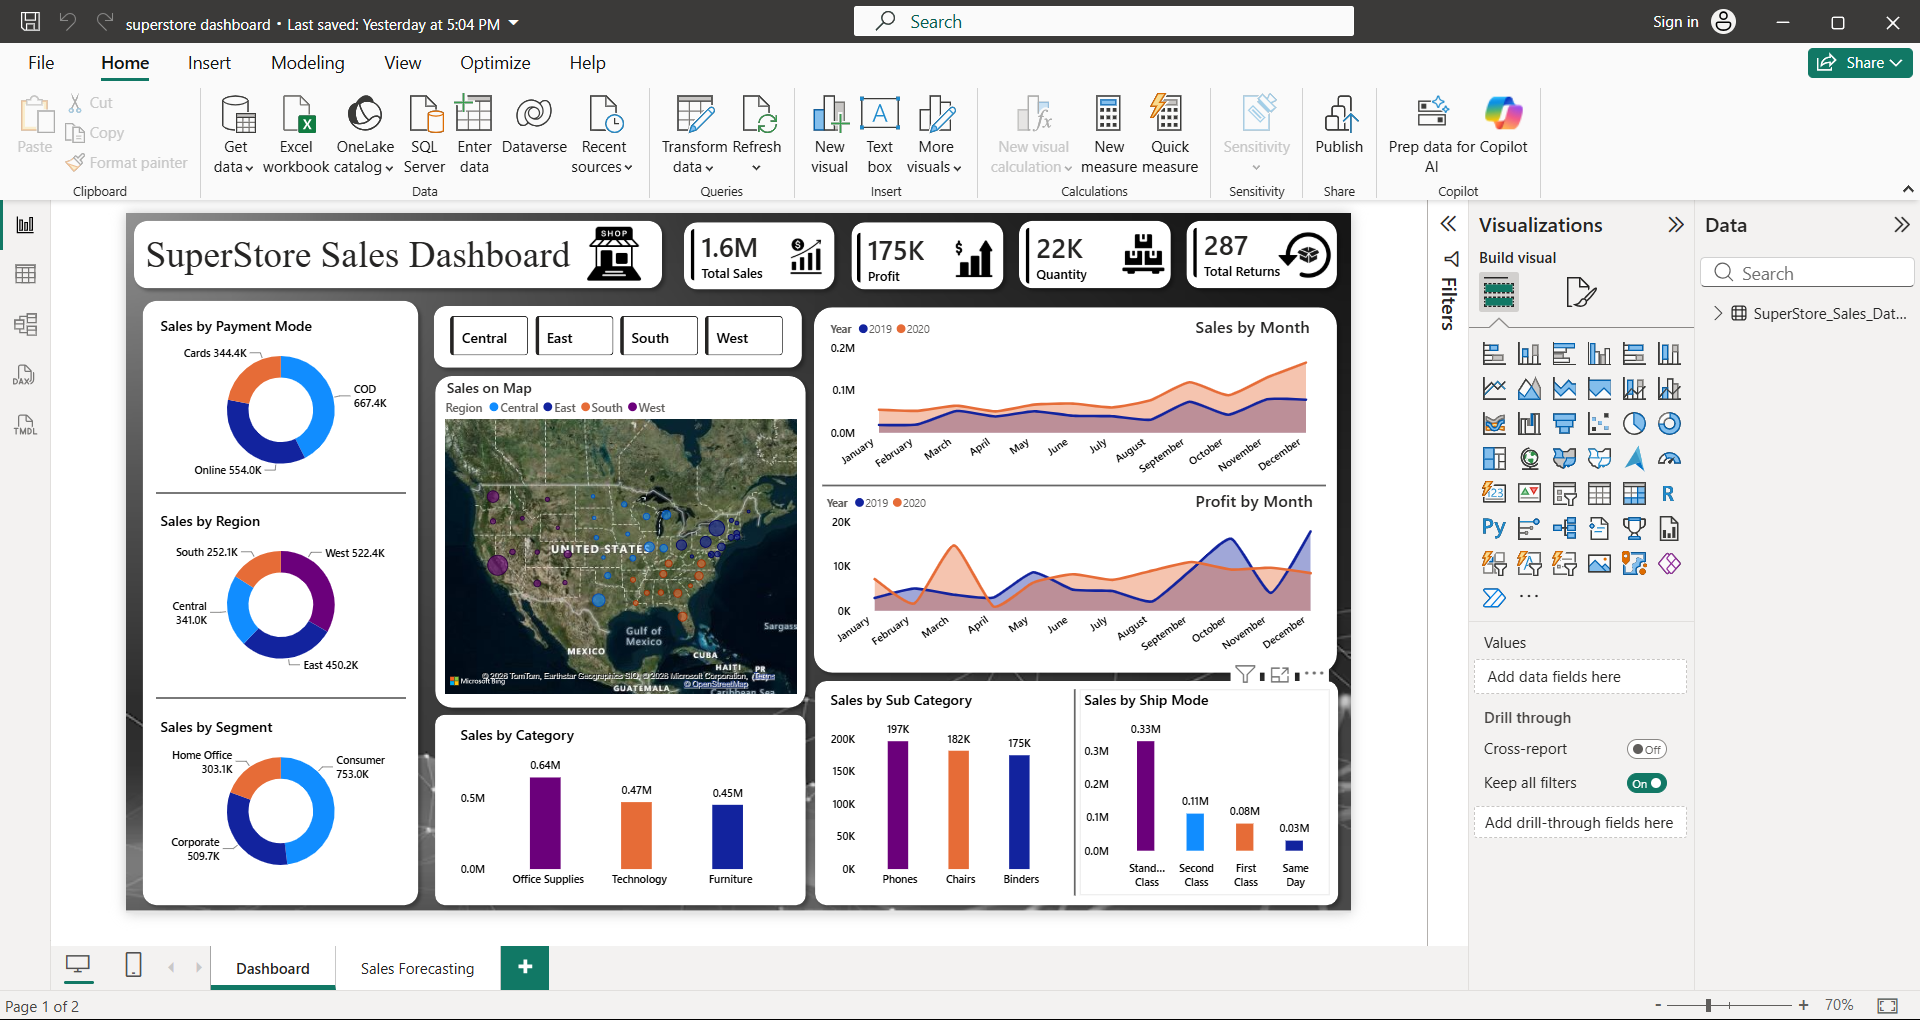

The dashboard page shown, as its layout file describes it:
{"tool":"powerbi","page":{"name":"Dashboard","canvas":[1400,800],"ordinal":0},"visuals":[{"type":"shape","box":[0,0,621.7,95],"z":0},{"type":"textbox","box":[17.1,17.1,542.9,61.4],"z":1000},{"type":"image","box":[501.4,15.7,112.9,61.4],"z":2000},{"type":"shape","box":[344.3,177.1,441.4,397.1],"z":3000},{"type":"map","title":"Sales on Map","fields":{"Size":["Sum(SuperStore_Sales_Dataset.Sales)"],"Series":["SuperStore_Sales_Dataset.Region"],"Category":["SuperStore_Sales_Dataset.State"]},"box":[360,201.4,411.4,352.9],"z":4000},{"type":"shape","box":[628,1.3,190,95],"z":5000},{"type":"cardVisual","fields":{"Data":["Sum(SuperStore_Sales_Dataset.Sales)"]},"box":[628,1.3,163.3,93.3],"z":6000},{"type":"shape","box":[820,1.7,191.7,95],"z":7000},{"type":"shape","box":[1011.7,0,191.7,95],"z":8000},{"type":"shape","box":[1203.3,0,190,95],"z":9000},{"type":"image","box":[743.3,28.3,68.3,41.7],"z":10000},{"type":"cardVisual","fields":{"Data":["Sum(SuperStore_Sales_Dataset.Profit)"]},"box":[818.3,5,171.7,91.7],"z":11000},{"type":"image","box":[930,30,78.3,45],"z":12000},{"type":"cardVisual","fields":{"Data":["Sum(SuperStore_Sales_Dataset.Quantity)"]},"box":[1011.7,0,203.3,98.3],"z":13000},{"type":"image","box":[1116.7,23.3,91.7,48.3],"z":14000},{"type":"cardVisual","fields":{"Data":["SuperStore_Sales_Dataset.Total Returns"]},"box":[1203.3,0,178.3,91.7],"z":15000},{"type":"image","box":[1298.3,13.3,96.7,70],"z":16000},{"type":"textbox","box":[362,182.8,161.7,40],"z":17000},{"type":"shape","box":[343.3,97.1,438.6,88.6],"z":18000},{"type":"advancedSlicerVisual","fields":{"Values":["SuperStore_Sales_Dataset.Region"]},"box":[366.2,112.9,392.9,55.7],"z":19000},{"type":"shape","box":[10,91.4,332.9,708.6],"z":20000},{"type":"donutChart","title":"Sales by Payment Mode","fields":{"Category":["SuperStore_Sales_Dataset.Payment Mode"],"Y":["Sum(SuperStore_Sales_Dataset.Sales)"]},"box":[34.3,117.1,285.7,194.3],"z":21000},{"type":"donutChart","title":"Sales by Region","fields":{"Y":["Sum(SuperStore_Sales_Dataset.Sales)"],"Category":["SuperStore_Sales_Dataset.Region"]},"box":[34.3,340,285.7,194.3],"z":22000},{"type":"donutChart","title":"Sales by Segment","fields":{"Y":["Sum(SuperStore_Sales_Dataset.Sales)"],"Category":["SuperStore_Sales_Dataset.Segment"]},"box":[34.3,575.7,285.7,194.3],"z":23000},{"type":"shape","box":[34.3,300,285.7,40],"z":24000},{"type":"shape","box":[34.3,534.3,285.7,40],"z":25000},{"type":"shape","box":[344.3,564.3,441.4,235.7],"z":26000},{"type":"shape","box":[777.1,98.6,615.7,435.7],"z":27000},{"type":"areaChart","title":"Sales by Month and Year","fields":{"Category":["SuperStore_Sales_Dataset.Order Date.Variation.Date Hierarchy.Month"],"Series":["SuperStore_Sales_Dataset.Order Date.Variation.Date Hierarchy.Year"],"Y":["Sum(SuperStore_Sales_Dataset.Profit)"]},"box":[795.7,311.4,581.4,204.3],"z":28000},{"type":"clusteredColumnChart","title":"Sales by Category","fields":{"Y":["Sum(SuperStore_Sales_Dataset.Sales)"],"Category":["SuperStore_Sales_Dataset.Category"]},"box":[377.1,584.3,381.4,195.7],"z":29000},{"type":"areaChart","title":"Sales by Month and Year","fields":{"Y":["Sum(SuperStore_Sales_Dataset.Sales)"],"Category":["SuperStore_Sales_Dataset.Order Date.Variation.Date Hierarchy.Month"],"Series":["SuperStore_Sales_Dataset.Order Date.Variation.Date Hierarchy.Year"]},"box":[800,112.9,571.4,198.6],"z":30000},{"type":"shape","box":[795.7,291.4,575.7,40],"z":31000},{"type":"textbox","box":[1217.1,112.9,182.9,41.4],"z":32000},{"type":"textbox","box":[1217.1,311.4,182.9,41.4],"z":33000},{"type":"shape","box":[778.6,525.7,615.7,274.3],"z":34000},{"type":"clusteredColumnChart","title":"Sales by Sub Category","fields":{"Y":["Sum(SuperStore_Sales_Dataset.Sales)"],"Category":["SuperStore_Sales_Dataset.Sub-Category"]},"box":[800,544.3,270,235.7],"z":35000},{"type":"shape","box":[1065.7,544.3,37.1,235.7],"z":36000},{"type":"clusteredColumnChart","title":"Sales by Ship Mode","fields":{"Y":["Sum(SuperStore_Sales_Dataset.Sales)"],"Category":["SuperStore_Sales_Dataset.Ship Mode"]},"box":[1090,544.3,285.7,235.7],"z":37000}]}

Visuals, with their boxes on the page's 1400x800 design canvas (x1, y1, x2, y2). These are canvas units, not pixel positions in the 1920x1020 screenshot, which may show the page scaled, cropped or inside an application window:
shape: [left=0, top=0, right=622, bottom=95]
textbox: [left=17, top=17, right=560, bottom=78]
image: [left=501, top=16, right=614, bottom=77]
shape: [left=344, top=177, right=786, bottom=574]
"Sales on Map" map: [left=360, top=201, right=771, bottom=554]
shape: [left=628, top=1, right=818, bottom=96]
cardVisual - Sum(SuperStore_Sales_Dataset.Sales): [left=628, top=1, right=791, bottom=95]
shape: [left=820, top=2, right=1012, bottom=97]
shape: [left=1012, top=0, right=1203, bottom=95]
shape: [left=1203, top=0, right=1393, bottom=95]
image: [left=743, top=28, right=812, bottom=70]
cardVisual - Sum(SuperStore_Sales_Dataset.Profit): [left=818, top=5, right=990, bottom=97]
image: [left=930, top=30, right=1008, bottom=75]
cardVisual - Sum(SuperStore_Sales_Dataset.Quantity): [left=1012, top=0, right=1215, bottom=98]
image: [left=1117, top=23, right=1208, bottom=72]
cardVisual - SuperStore_Sales_Dataset.Total Returns: [left=1203, top=0, right=1382, bottom=92]
image: [left=1298, top=13, right=1395, bottom=83]
textbox: [left=362, top=183, right=524, bottom=223]
shape: [left=343, top=97, right=782, bottom=186]
advancedSlicerVisual - SuperStore_Sales_Dataset.Region: [left=366, top=113, right=759, bottom=169]
shape: [left=10, top=91, right=343, bottom=800]
"Sales by Payment Mode" donutChart: [left=34, top=117, right=320, bottom=311]
"Sales by Region" donutChart: [left=34, top=340, right=320, bottom=534]
"Sales by Segment" donutChart: [left=34, top=576, right=320, bottom=770]
shape: [left=34, top=300, right=320, bottom=340]
shape: [left=34, top=534, right=320, bottom=574]
shape: [left=344, top=564, right=786, bottom=800]
shape: [left=777, top=99, right=1393, bottom=534]
"Sales by Month and Year" areaChart: [left=796, top=311, right=1377, bottom=516]
"Sales by Category" clusteredColumnChart: [left=377, top=584, right=758, bottom=780]
"Sales by Month and Year" areaChart: [left=800, top=113, right=1371, bottom=312]
shape: [left=796, top=291, right=1371, bottom=331]
textbox: [left=1217, top=113, right=1400, bottom=154]
textbox: [left=1217, top=311, right=1400, bottom=353]
shape: [left=779, top=526, right=1394, bottom=800]
"Sales by Sub Category" clusteredColumnChart: [left=800, top=544, right=1070, bottom=780]
shape: [left=1066, top=544, right=1103, bottom=780]
"Sales by Ship Mode" clusteredColumnChart: [left=1090, top=544, right=1376, bottom=780]
